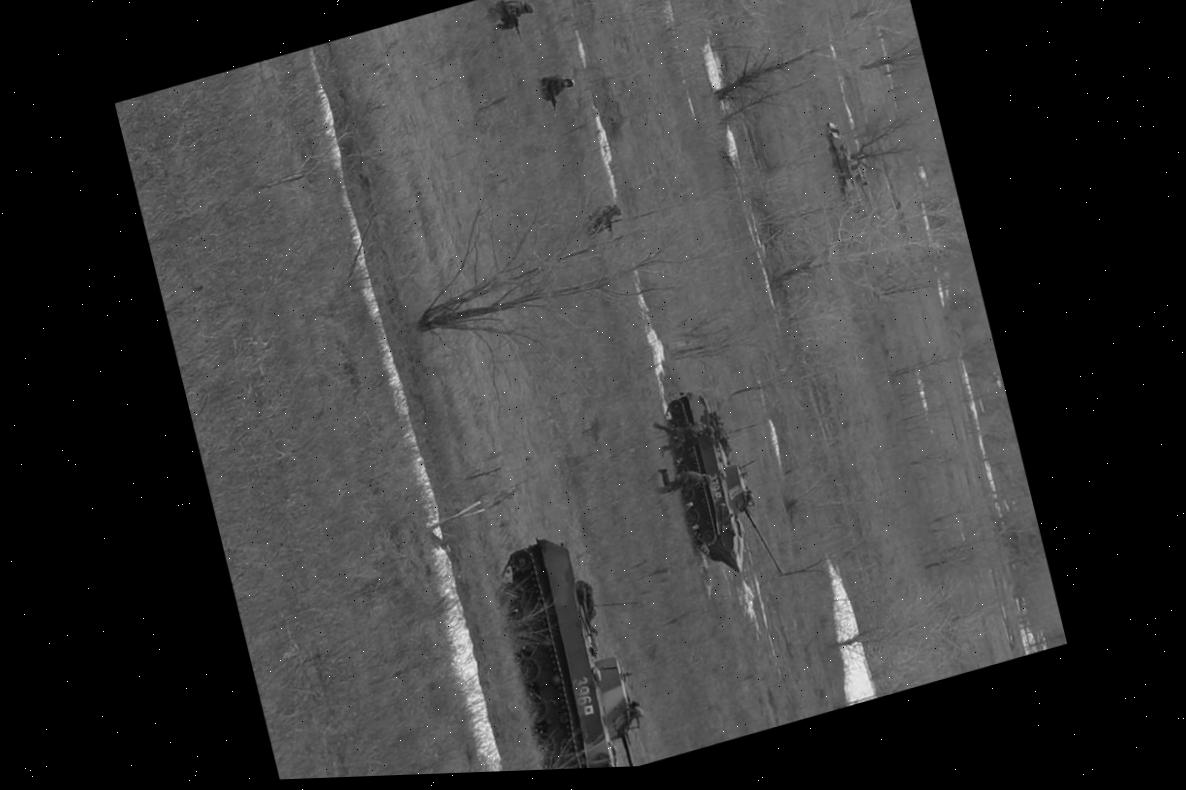person: (649, 406, 717, 458), (649, 454, 714, 501), (484, 0, 536, 36), (581, 200, 625, 236), (536, 68, 577, 104)
tank: (486, 519, 655, 772), (654, 375, 786, 598), (819, 115, 875, 219)
